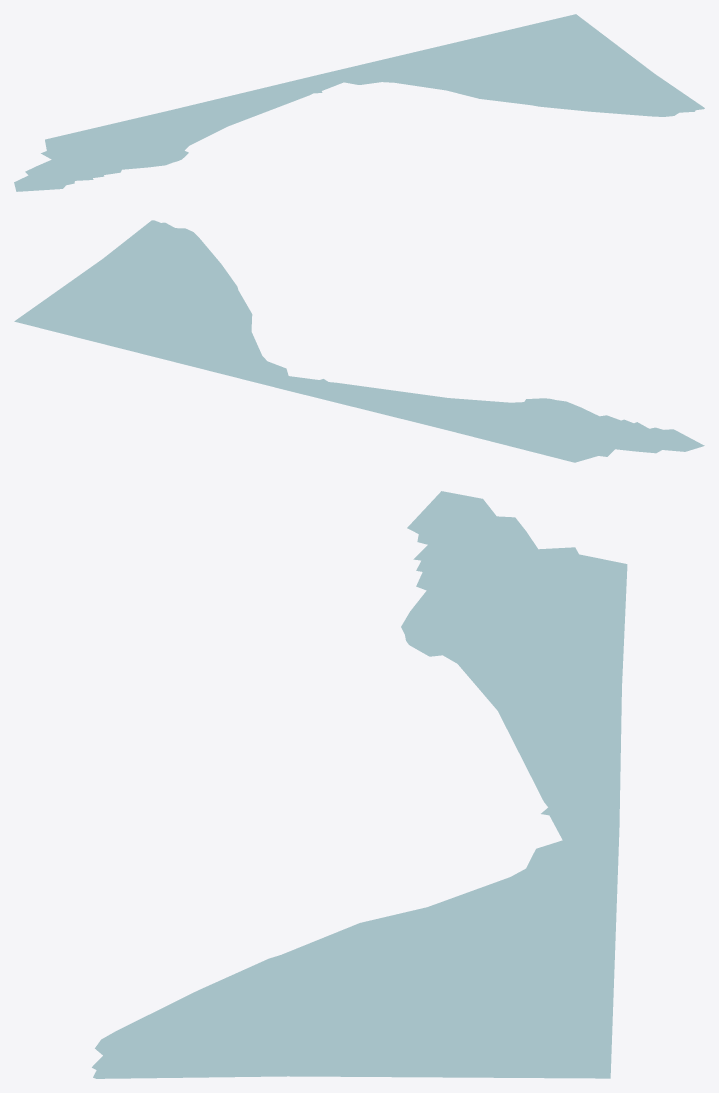
File: bay7.glb
3 renders of one model, top to bottom at view 1: azimuth 30°, elevation 25°; view 2: azimuth 150°, elevation 25°; view 3: azimuth 270°, elevation 25°, orthographic. The views are drawn at different scales.
Visible parts, largest first — view 1: bay; view 2: bay; view 3: bay.
Part boxes in pixels (x1,y1,x2,y2): bay: (14, 14, 704, 191); bay: (14, 220, 704, 462); bay: (92, 491, 627, 1078).
Size of the model in its own units: 3.48 by 1.16e-10 by 1.34.
